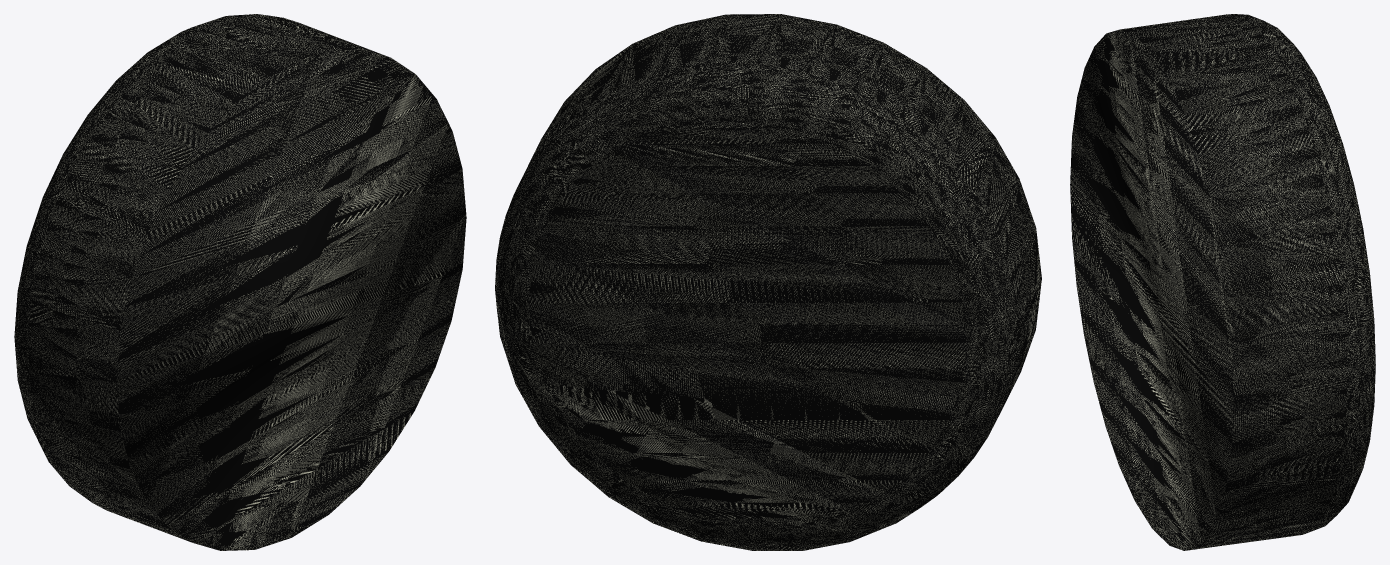
The model's file is original-18.obj.
3 renders of one model, left to right at view 1: azimuth 30°, elevation 25°; view 2: azimuth 150°, elevation 25°; view 3: azimuth 270°, elevation 25°, orthographic.
Parts seen in each view (by area): view 1: Obj_000025_1/Obj_000025/mesh23/mesh23-geometry#mesh23-geometry; view 2: Obj_000025_1/Obj_000025/mesh23/mesh23-geometry#mesh23-geometry; view 3: Obj_000025_1/Obj_000025/mesh23/mesh23-geometry#mesh23-geometry.
Part boxes in pixels (<box>): Obj_000025_1/Obj_000025/mesh23/mesh23-geometry#mesh23-geometry: <box>14,14,466,550</box>; Obj_000025_1/Obj_000025/mesh23/mesh23-geometry#mesh23-geometry: <box>495,14,1041,550</box>; Obj_000025_1/Obj_000025/mesh23/mesh23-geometry#mesh23-geometry: <box>1070,14,1375,550</box>.
Size of the model in its own units: 0.0914 by 0.0892 by 0.0519.
